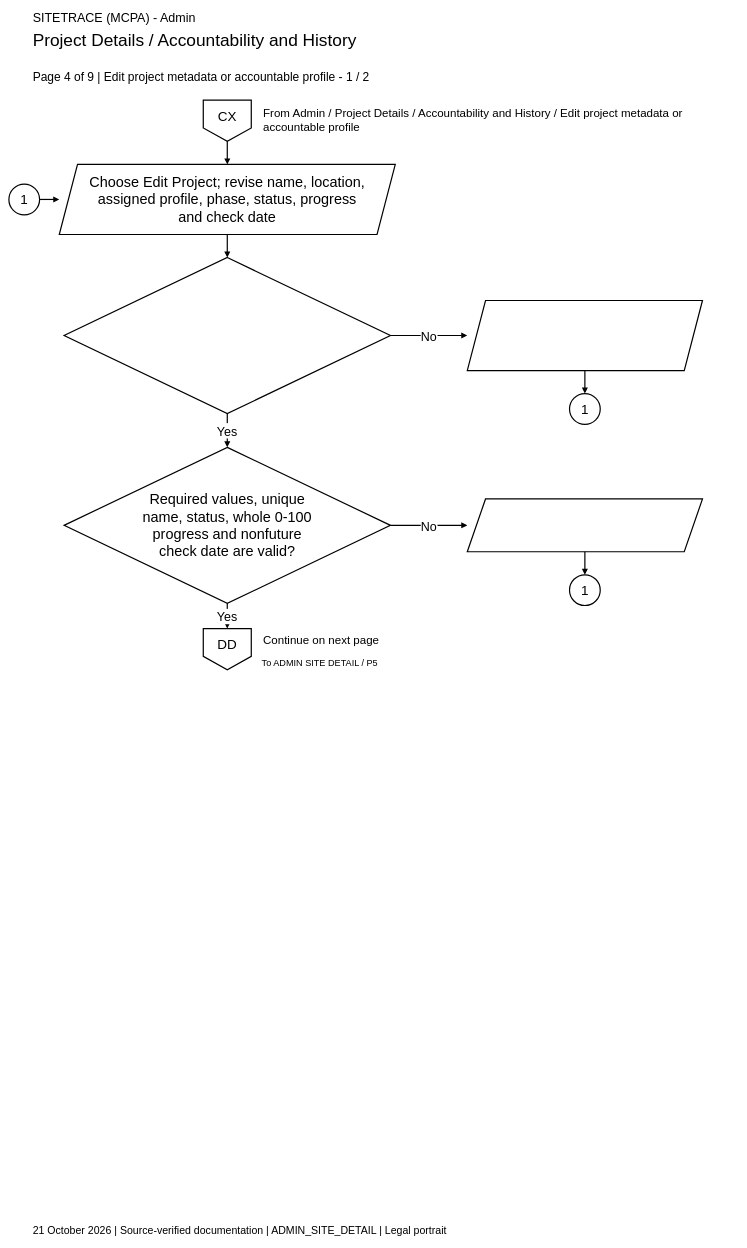
Image size: 747x1248. Some labels were removed from this diagram. Each missing label, with the box of its shape:
Show Select an existing Engineer / Architect profile; correct the assignment: (466, 300, 703, 371)
Show the specific validation error; correct values: (466, 498, 703, 552)
Valid existing profile selected, or the unchanged legacy assignment is retained?: (63, 257, 391, 414)
